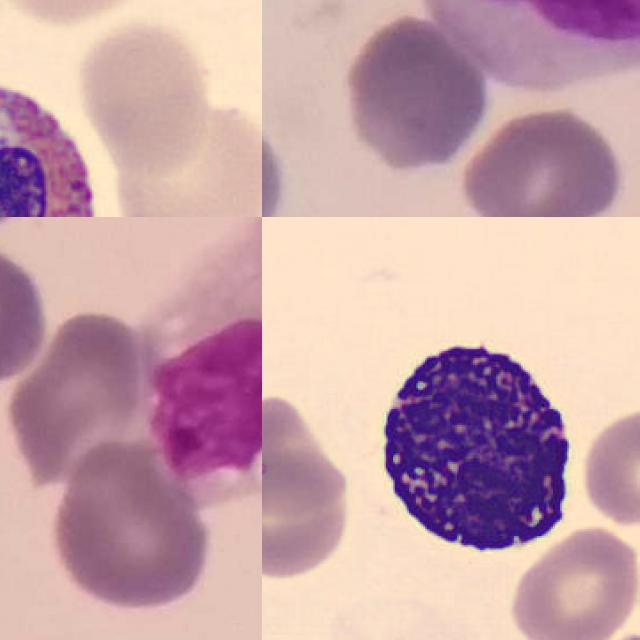Basophil: (361, 326, 585, 561)
Eosinophil: (0, 60, 111, 217)
Monocyte: (146, 217, 262, 543), (406, 0, 640, 86)
RBC: (262, 375, 384, 631), (75, 13, 212, 175), (110, 93, 262, 217), (503, 525, 640, 640), (262, 391, 359, 518), (262, 460, 359, 580), (578, 402, 640, 527)
